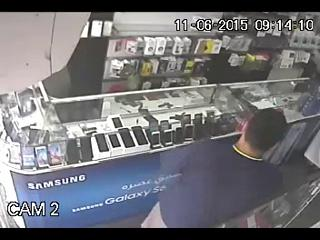Normal: (140, 107, 290, 227)
